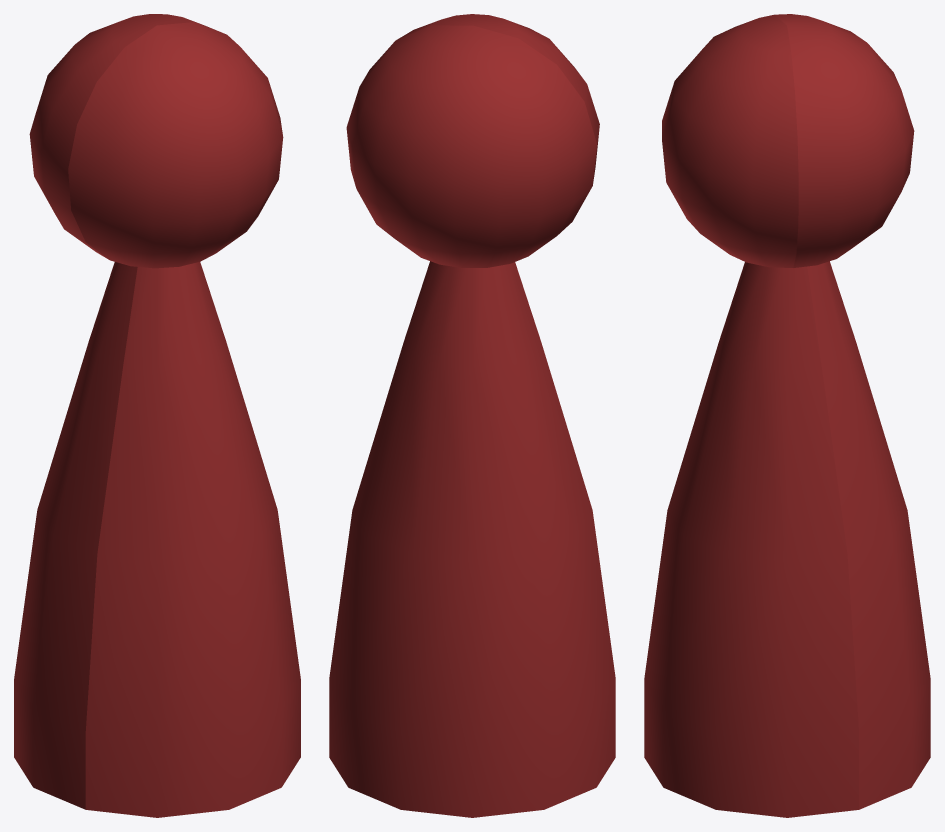
The model's file is prop01_teruterubose_01.fbx.
The picture shows the model from 3 angles, left to right: view 1: azimuth 30°, elevation 25°; view 2: azimuth 150°, elevation 25°; view 3: azimuth 270°, elevation 25°; orthographic projection.
Parts seen in each view (by area): view 1: Object028; view 2: Object028; view 3: Object028.
Boxes of the visible parts, x1,y1,x2,y2 form: Object028: [14, 14, 300, 817]; Object028: [329, 14, 615, 817]; Object028: [644, 14, 930, 817].
Size of the model in its own units: 10.78 by 30.36 by 10.78.
